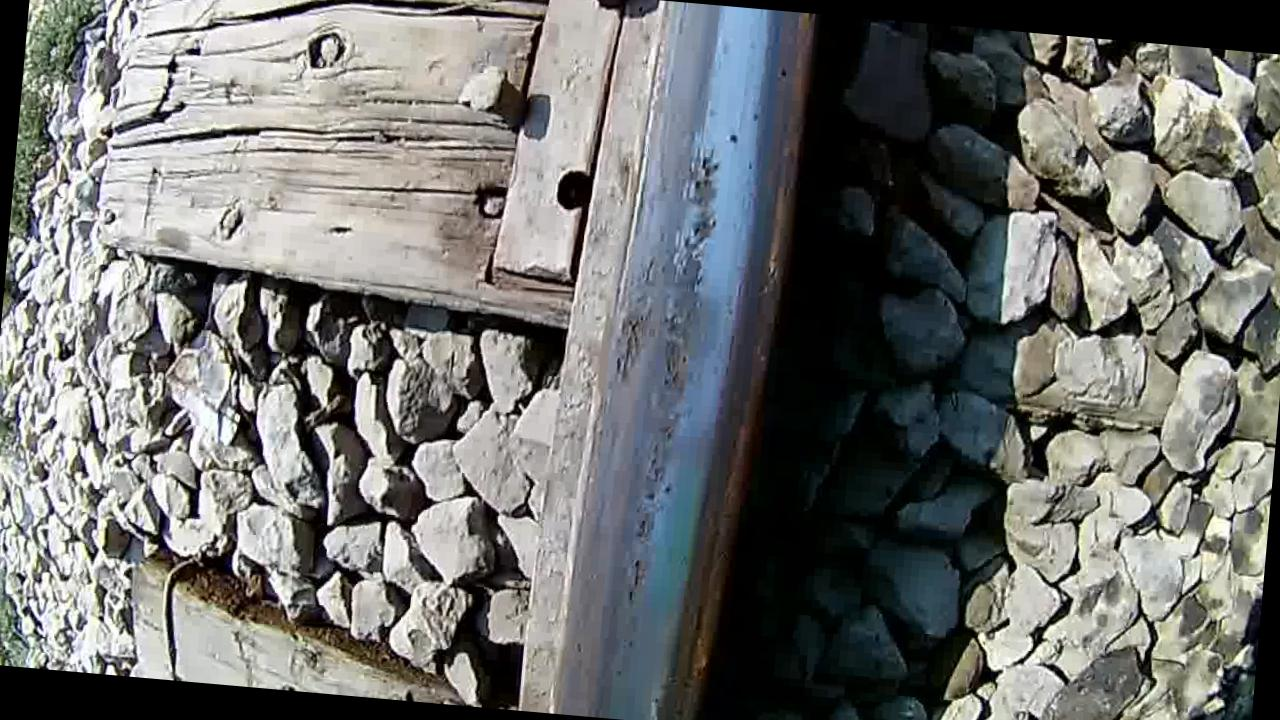crack: (556, 0, 812, 720)
